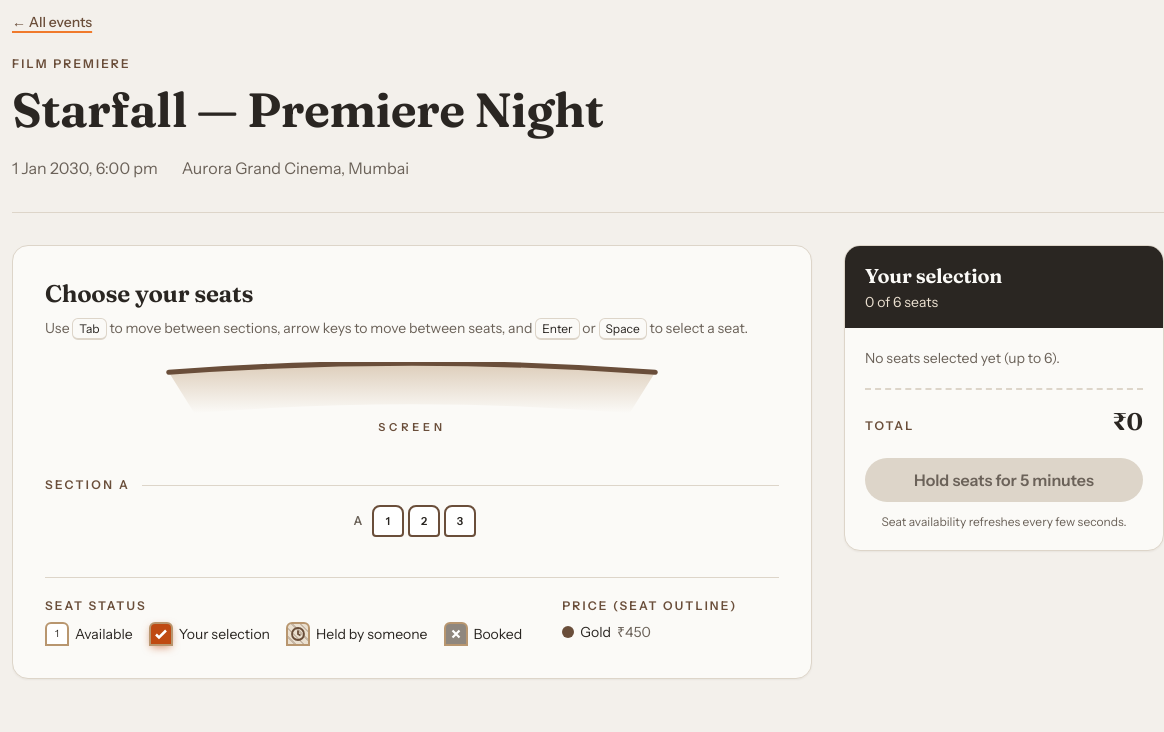
EventDetailPage › on 409 highlights the taken seat and shows a friendly message
Click the button named "Section A, Row A, Seat 1, ₹450, available": coordinates (388, 521) top-left (372, 505), bottom-right (404, 537)
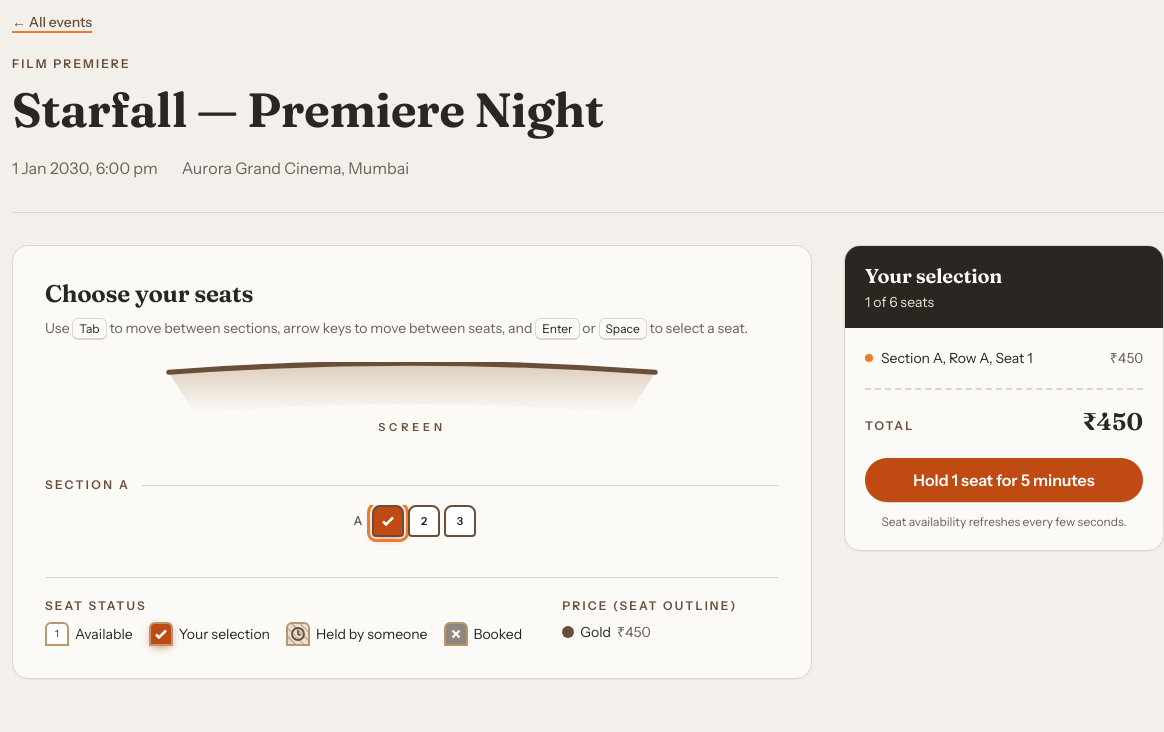
Click the button named "Section A, Row A, Seat 2, ₹450, available": coordinates (424, 521) top-left (408, 505), bottom-right (440, 537)
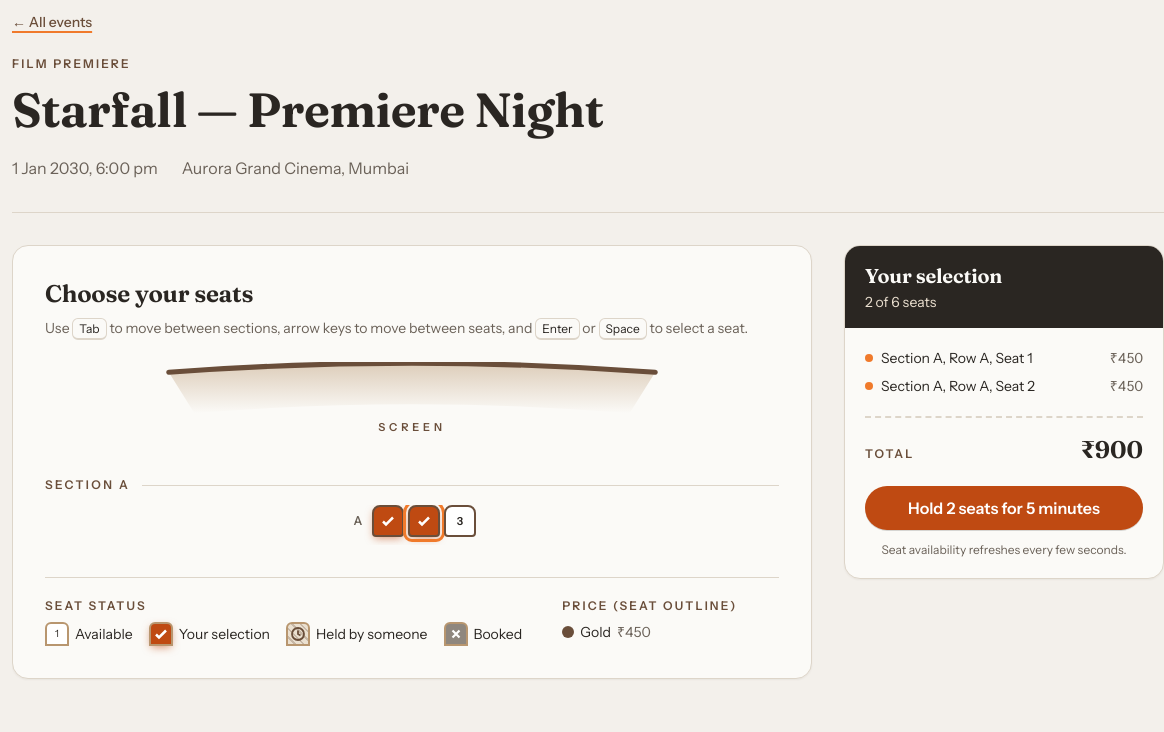
Click the button "Hold 2 seats for 5 minutes": coordinates (1004, 508) top-left (865, 486), bottom-right (1143, 530)
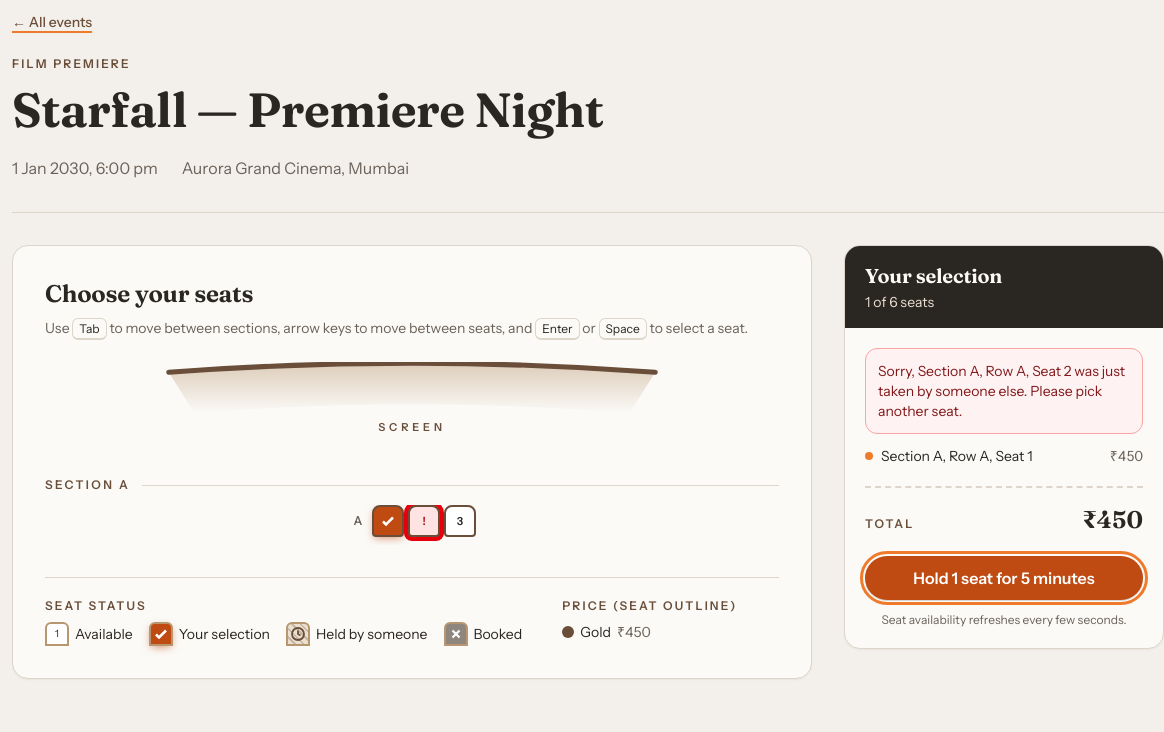
Check: the button "Hold 1 seat for 5 minutes" is enabled, box top-left (865, 556), bottom-right (1143, 600)
Check: the button named "Section A, Row A, Seat 2, ₹450, just taken by someone else" is shown, box top-left (408, 505), bottom-right (440, 537)
